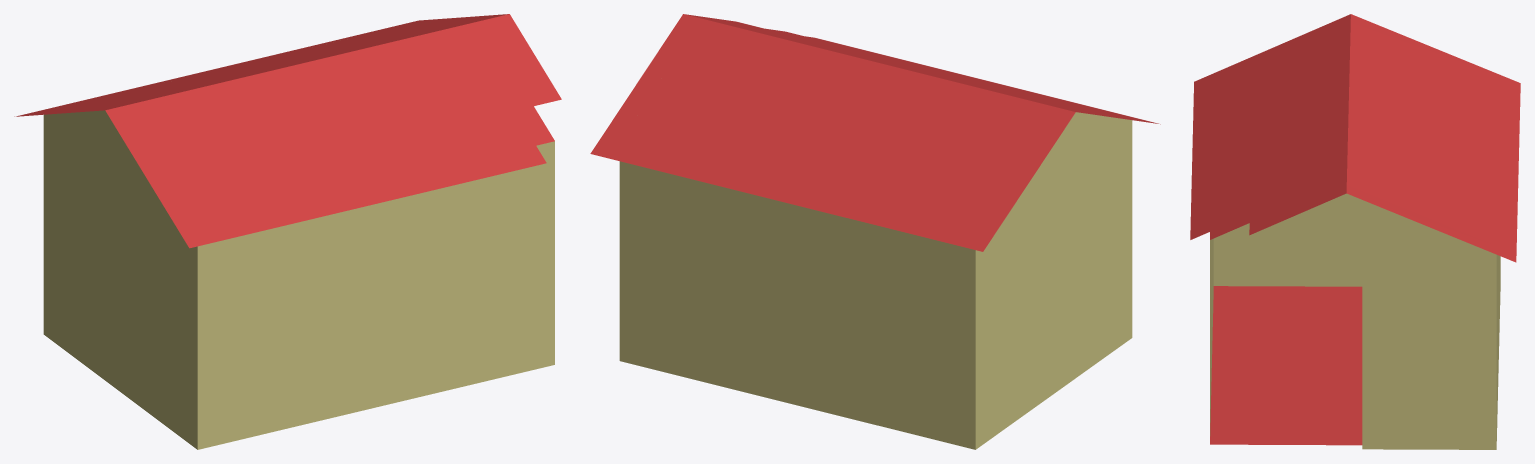
3 renders of one model, left to right at view 1: azimuth 30°, elevation 25°; view 2: azimuth 150°, elevation 25°; view 3: azimuth 270°, elevation 25°, orthographic. The views are drawn at different scales.
Bounding box in the file's own units: 16.12 × 12.45 × 10.98.
